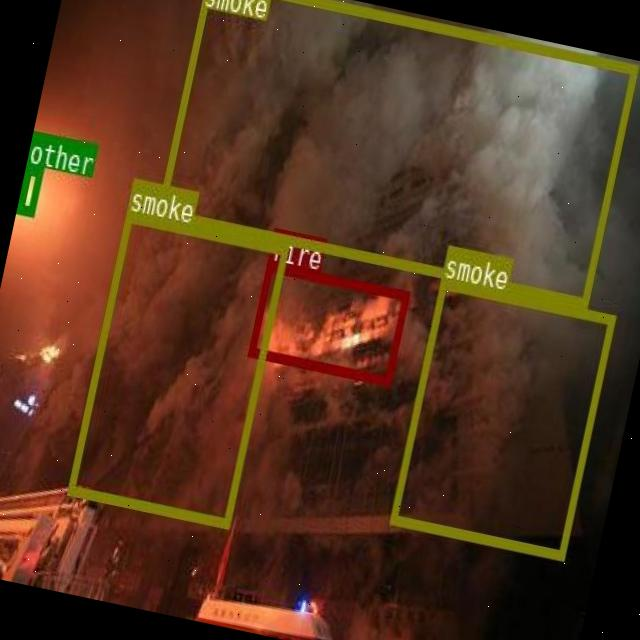fire: (248, 260, 410, 384)
smoke: (155, 0, 637, 307), (67, 210, 287, 526), (388, 277, 614, 559)
